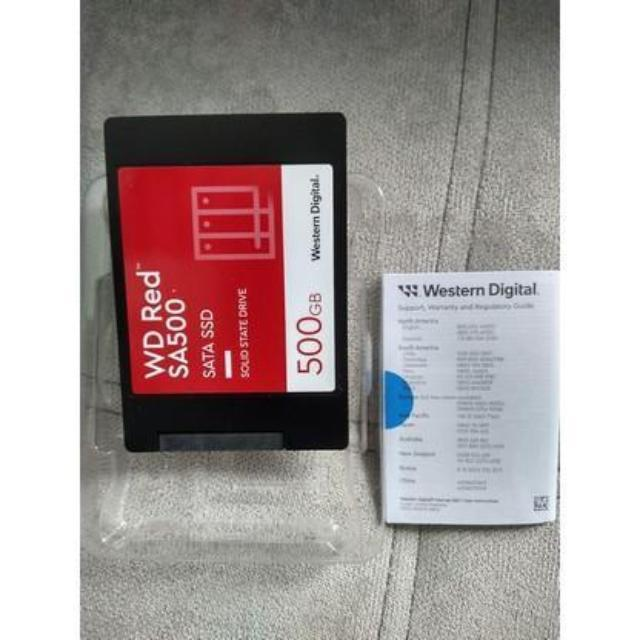DISK: (98, 109, 350, 454)
